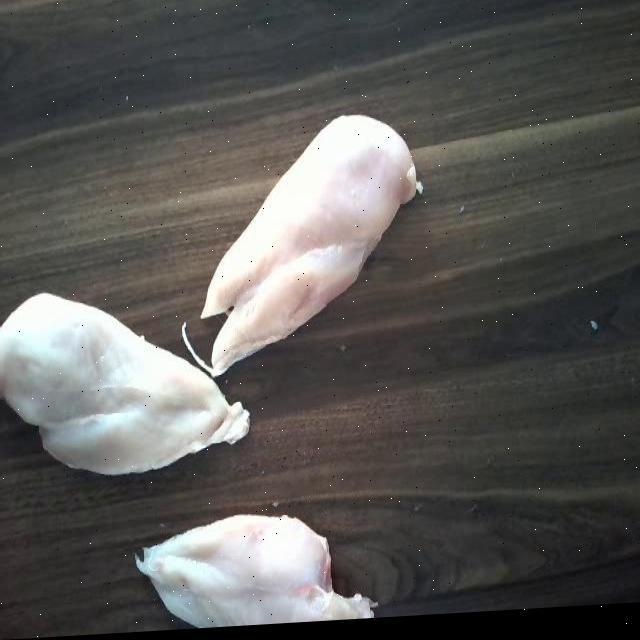breast: (202, 110, 420, 368), (0, 283, 241, 481), (140, 506, 372, 634)
